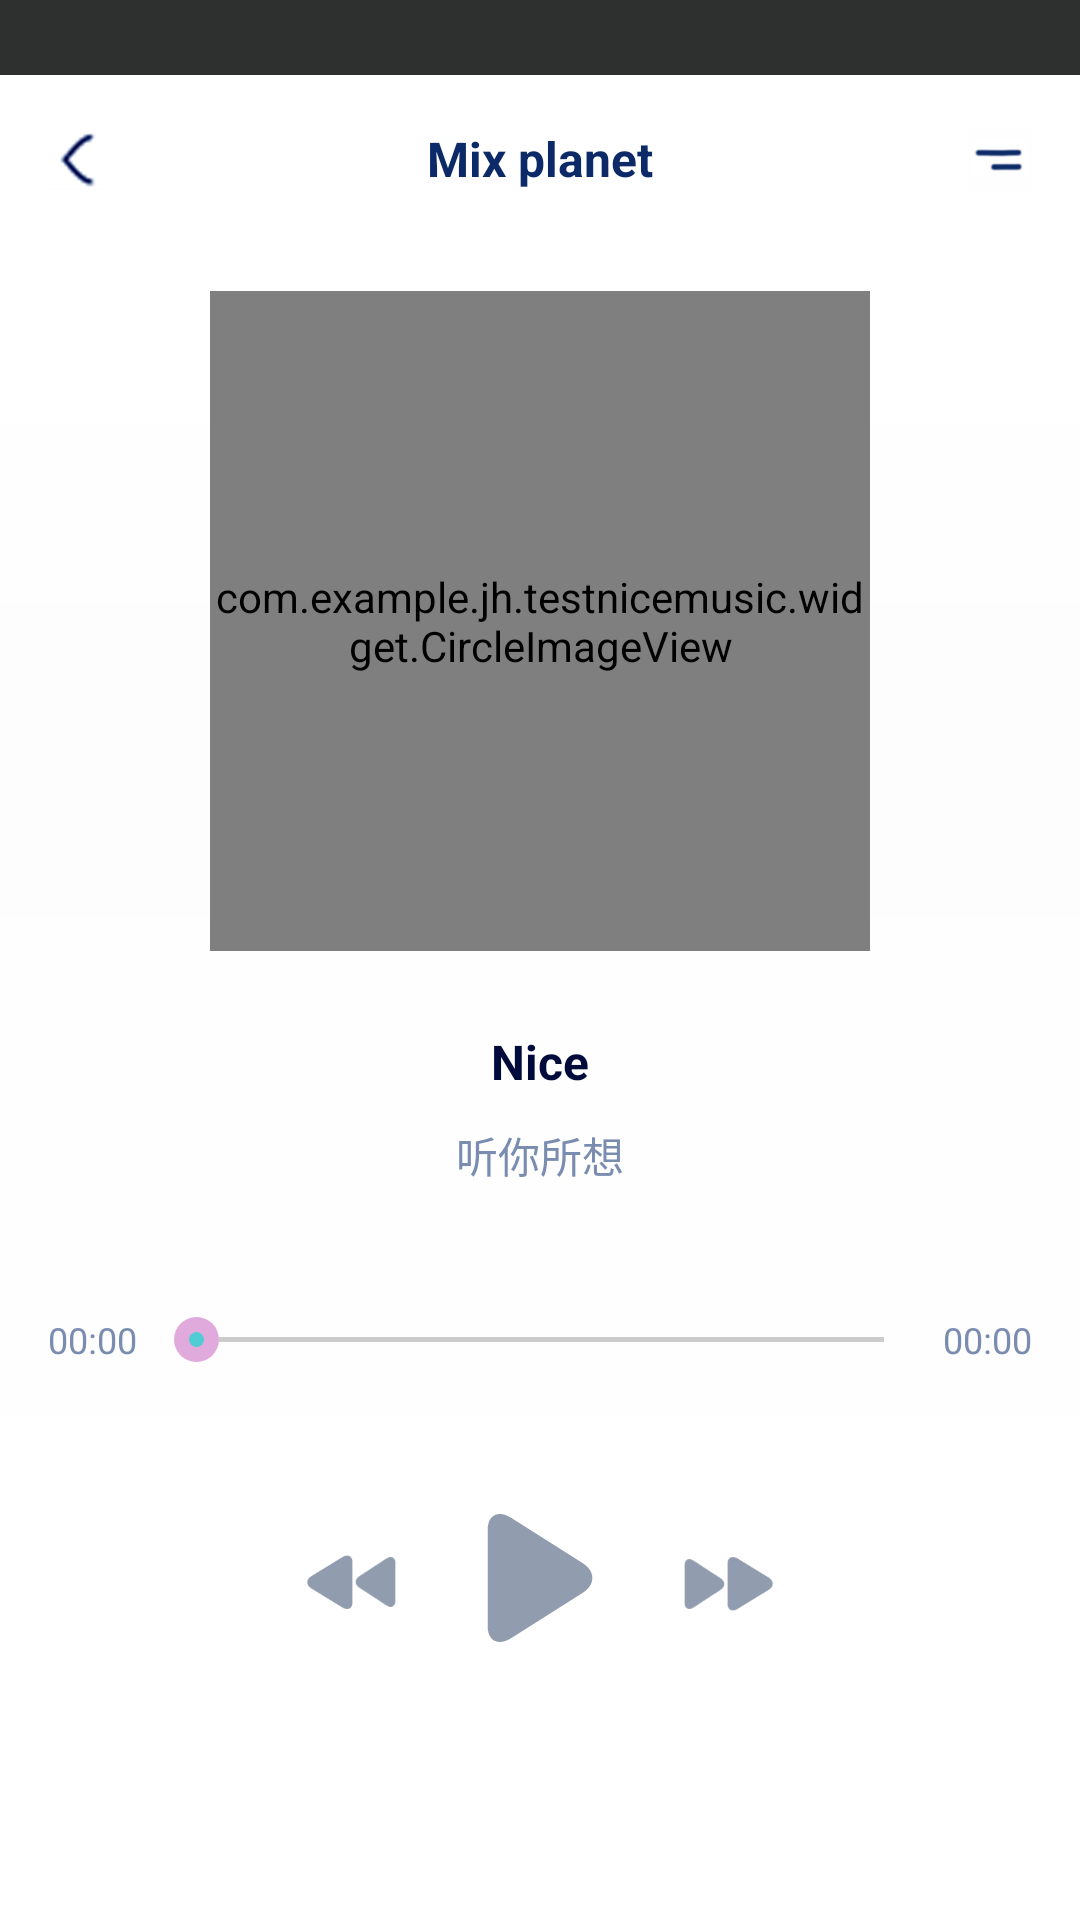

Where to tap for icons on this 1080 x 1920 app screen, as point (x, y):
back: point (77, 160)
menu: point (998, 160)
next: point (728, 1584)
play: point (540, 1578)
pre: point (351, 1582)
